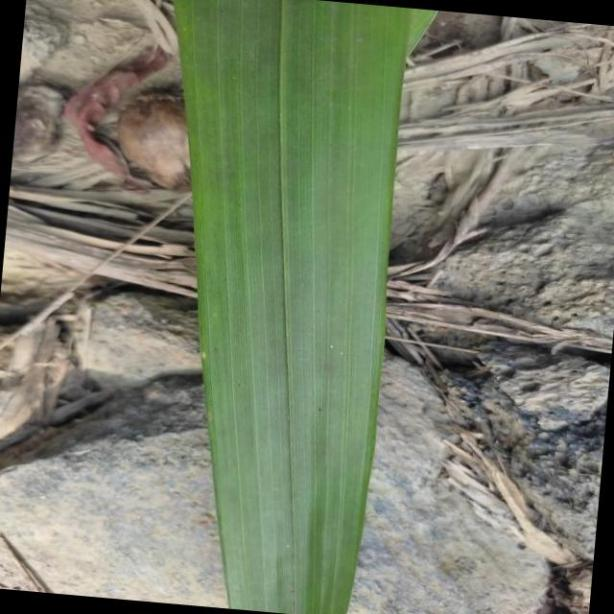Healthy: (179, 0, 408, 614)
